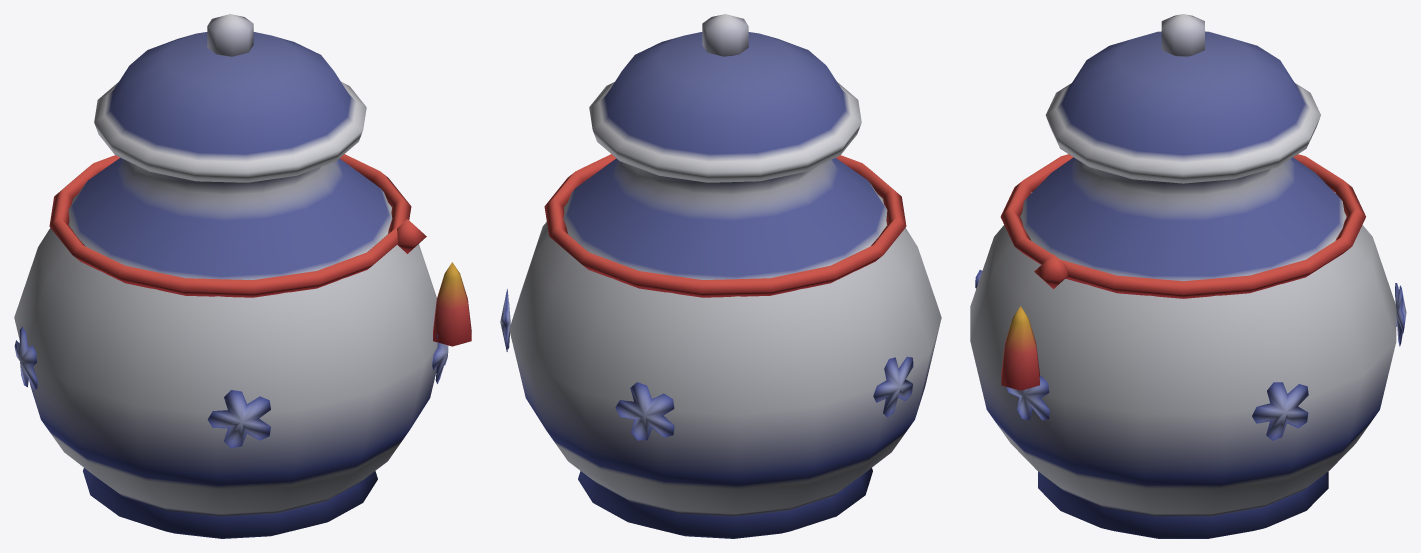
Rendered from pot-moon.glb.
The picture shows the model from 3 angles, left to right: view 1: azimuth 30°, elevation 25°; view 2: azimuth 150°, elevation 25°; view 3: azimuth 270°, elevation 25°; orthographic projection.
Visible parts, largest first — view 1: pot; view 2: pot; view 3: pot.
Part boxes in pixels (<box>): pot: <box>14,14,471,538</box>; pot: <box>500,14,941,538</box>; pot: <box>970,14,1406,538</box>.
Size of the model in its own units: 0.5825 by 0.697 by 0.5825.
